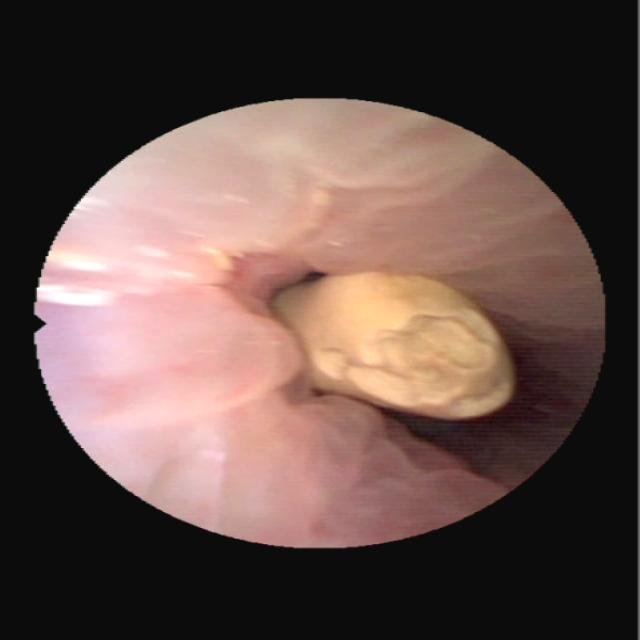stone: (279, 270, 510, 421)
tissue: (42, 109, 590, 541)
